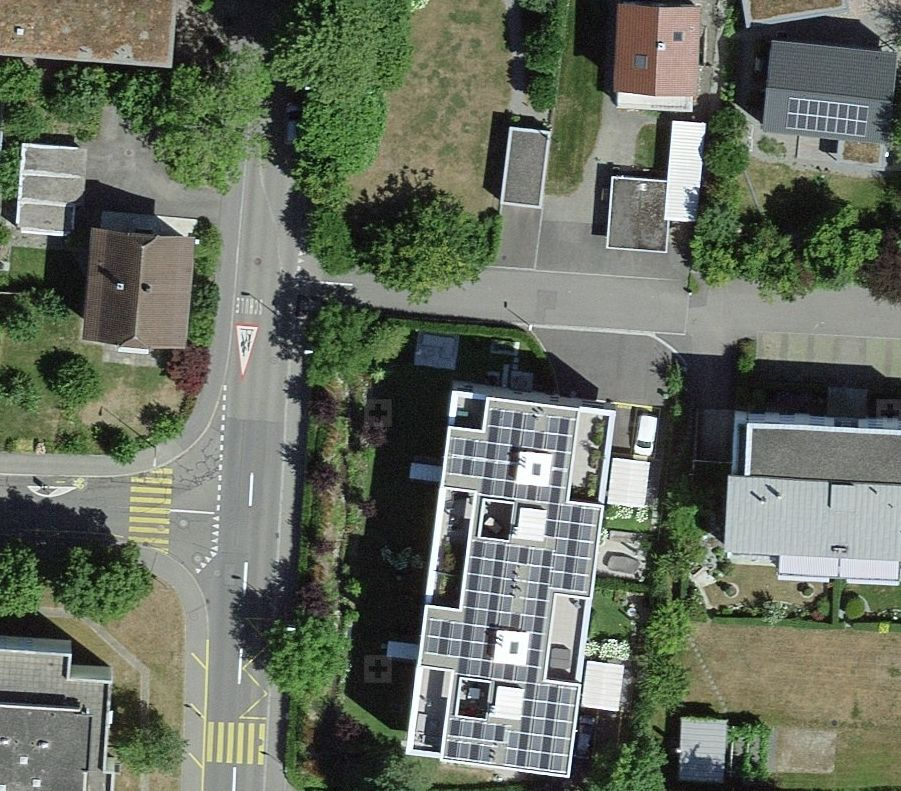solar: (420, 404, 605, 778), (781, 95, 869, 139)
